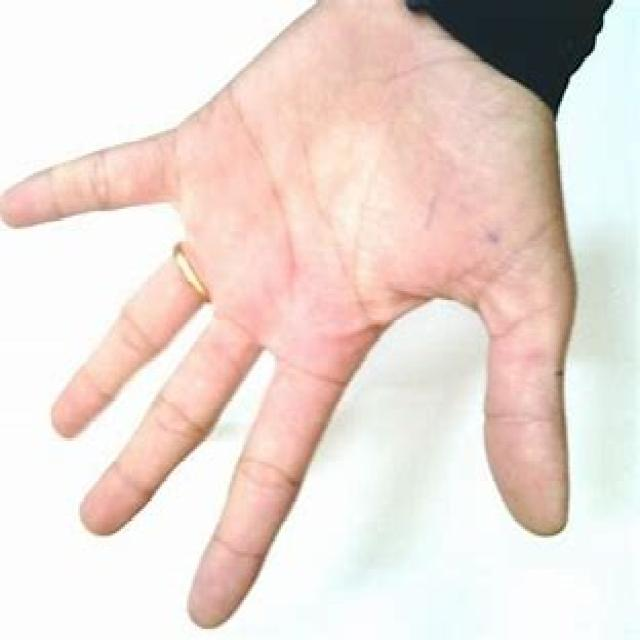not-gloved: (8, 33, 594, 621)
